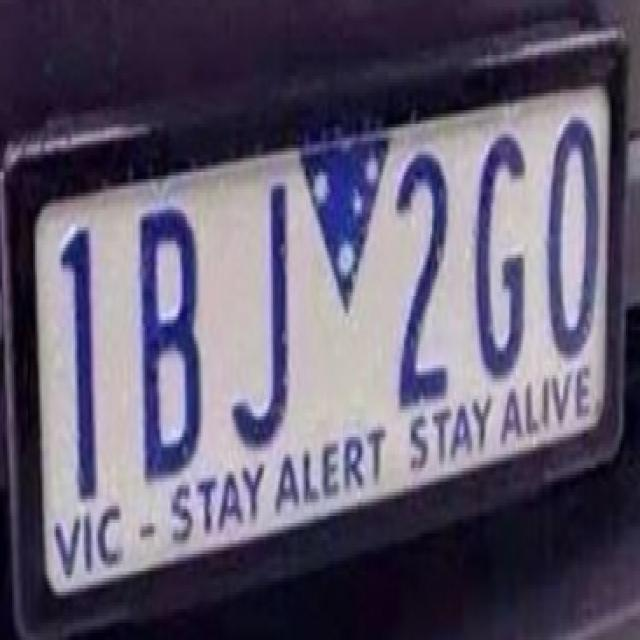1: (56, 214, 102, 504)
B: (134, 203, 204, 478)
G: (471, 120, 534, 377)
J: (226, 172, 294, 446)
O: (544, 106, 607, 364)
